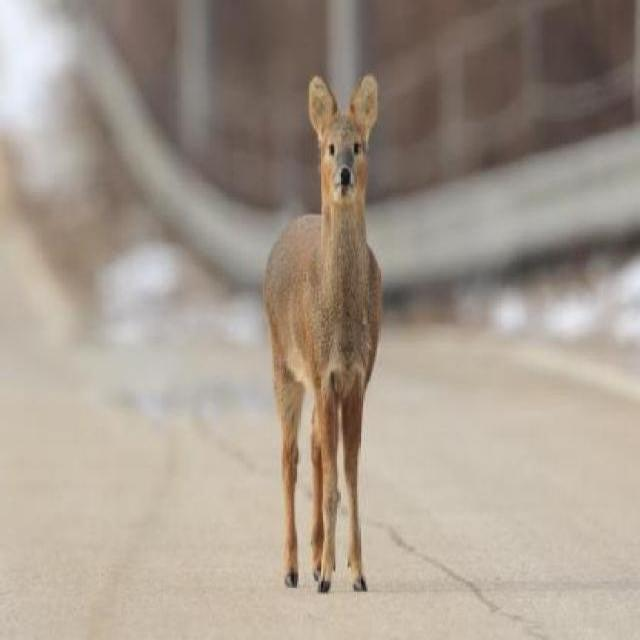deer: (255, 73, 384, 596)
